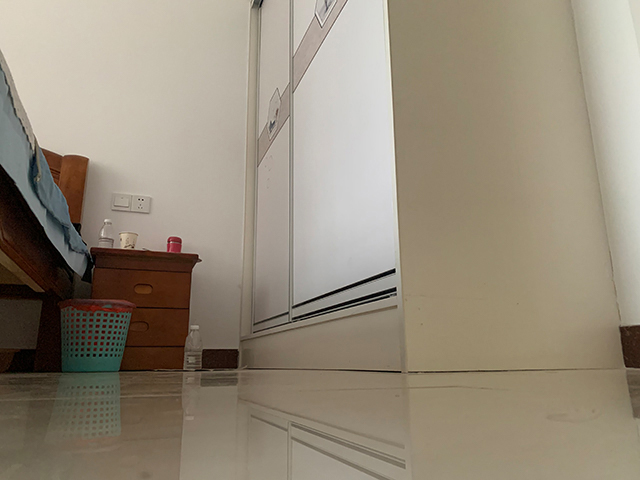bed: (1, 50, 89, 372)
cabinet: (241, 1, 627, 374), (90, 245, 201, 370)
trashcan: (58, 297, 135, 374)
